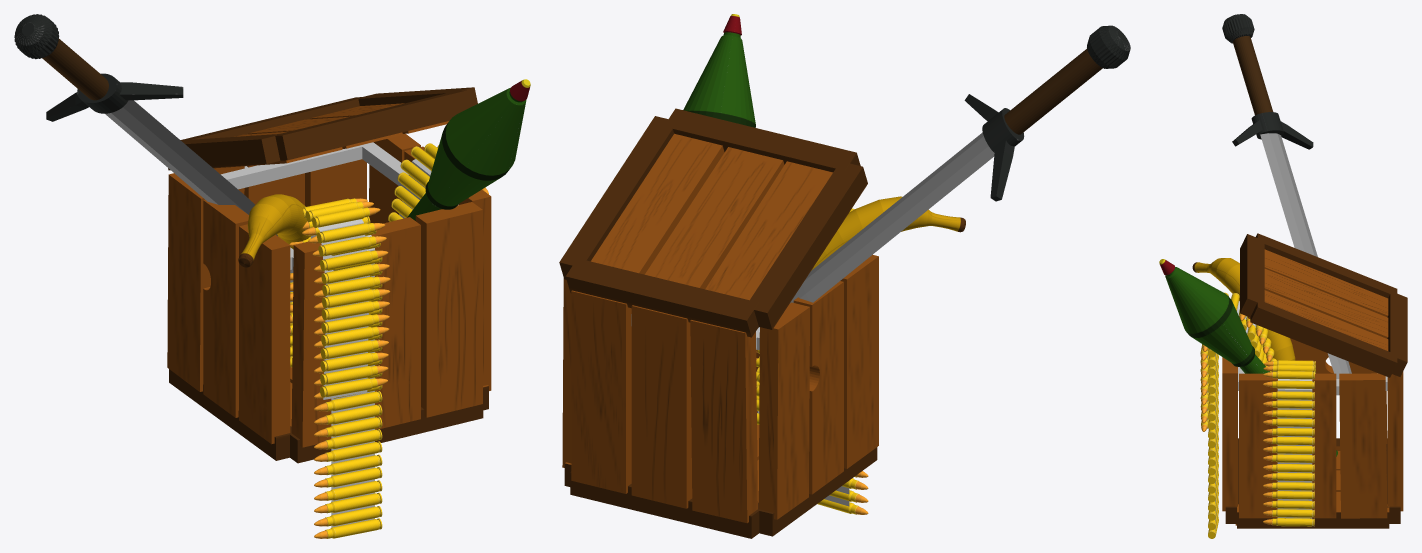
Rendered from ammobox1.fbx.
3 views of the same model, side by side, from view 1: azimuth 30°, elevation 25°; view 2: azimuth 150°, elevation 25°; view 3: azimuth 270°, elevation 25° (orthographic). The views are drawn at different scales.
Parts seen in each view (by area): view 1: Cube.008, Cylinder.001, Cylinder.040, Cube, Cylinder, Cylinder.003, Cube.020, Cylinder.002, Cube.022; view 2: Cube.008, Cube, Cylinder, Cylinder.003, Cylinder.040; view 3: Cube.008, Cylinder.002, Cube, Cylinder, Cylinder.040, Cylinder.003, Cylinder.001.
Part boxes in pixels (x1,y1,x2,y2): Cube.008: (167, 87, 491, 463); Cylinder.001: (290, 198, 390, 399); Cylinder.040: (289, 216, 382, 538); Cube: (14, 14, 277, 235); Cylinder: (407, 79, 530, 220); Cylinder.003: (238, 194, 310, 267); Cube.020: (221, 143, 370, 189); Cylinder.002: (388, 143, 488, 221); Cube.022: (361, 142, 458, 205); Cube.008: (559, 108, 878, 538); Cube: (758, 25, 1130, 327); Cylinder: (683, 14, 755, 127); Cylinder.003: (811, 196, 965, 270); Cylinder.040: (756, 356, 868, 514); Cube.008: (1222, 233, 1407, 528); Cylinder.002: (1263, 360, 1315, 526); Cube: (1222, 14, 1351, 378); Cylinder: (1159, 259, 1337, 456); Cylinder.040: (1208, 319, 1271, 538); Cylinder.003: (1192, 258, 1295, 360); Cylinder.001: (1200, 292, 1276, 431).
Size of the model in its own units: 534 by 596 by 325.
